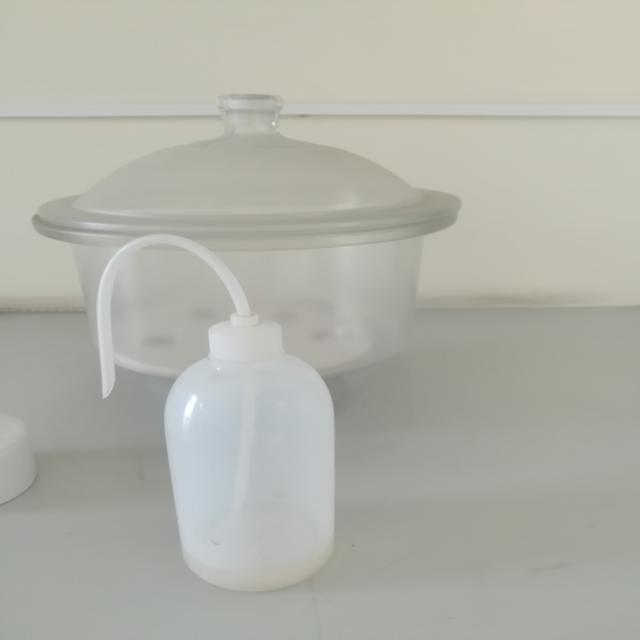Wash_Bottle: (58, 221, 370, 616)
